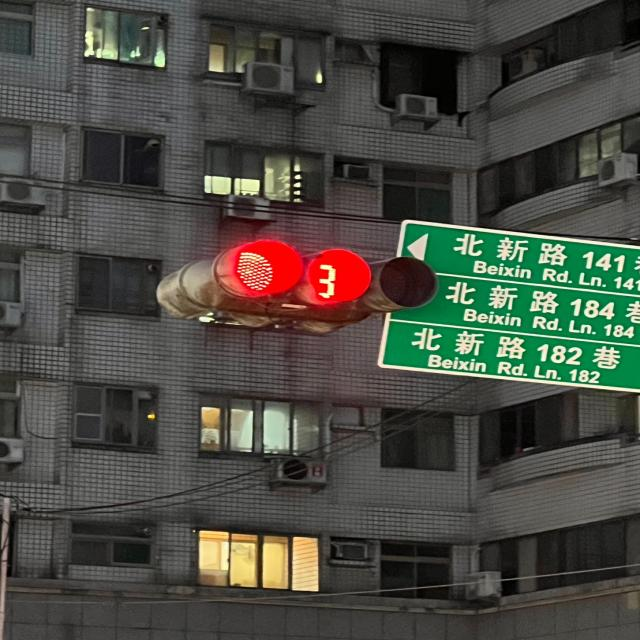red light: (220, 240, 438, 312)
